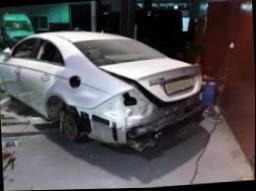Bumper: (78, 98, 203, 146)
Light: (90, 87, 151, 120)
